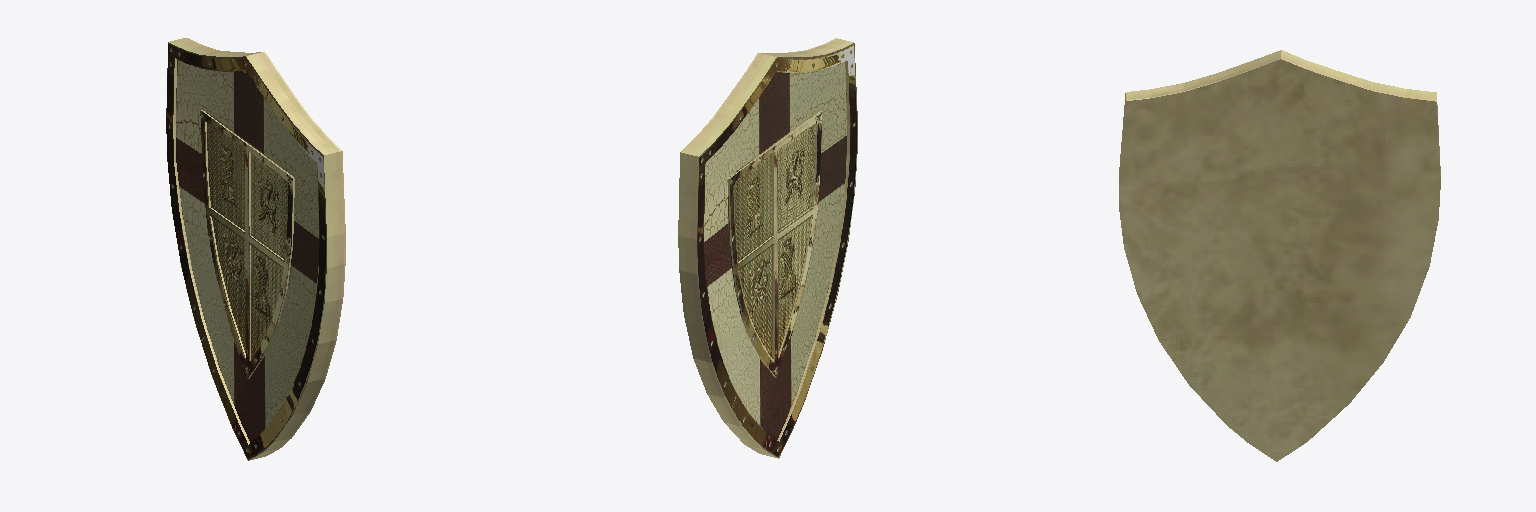
The picture shows the model from 3 angles: view 1: azimuth 30°, elevation 25°; view 2: azimuth 150°, elevation 25°; view 3: azimuth 270°, elevation 25°; orthographic projection.
Visible parts, largest first — view 1: Shield; view 2: Shield; view 3: Shield.
Part boxes in pixels (bbox=[...]): Shield: bbox=[166, 38, 345, 460]; Shield: bbox=[678, 38, 857, 458]; Shield: bbox=[1119, 50, 1440, 461].
Size of the model in its own units: 6 by 123 by 88.85.
1 materials, 1 textured.